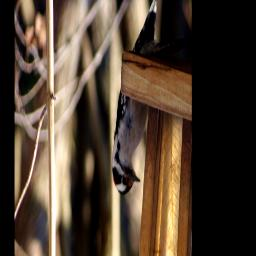Woodpecker: (112, 1, 188, 195)
